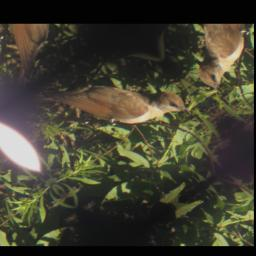Cuckoo: (24, 34, 196, 176)
